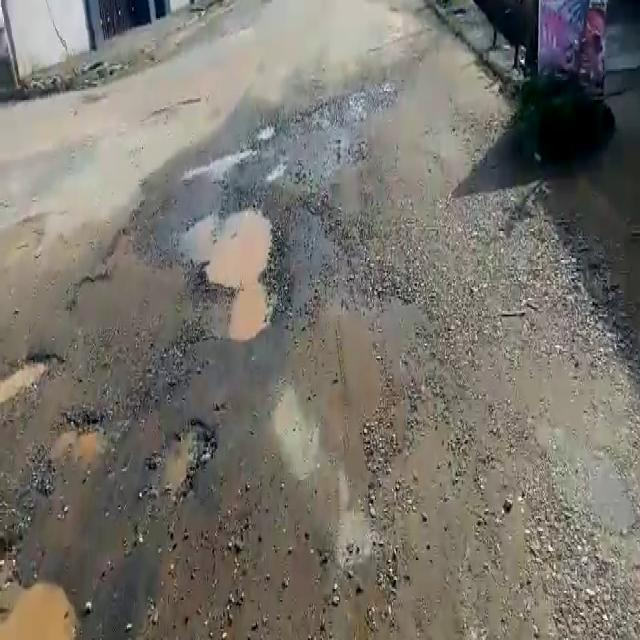pothole: (163, 199, 286, 337), (144, 416, 217, 500), (0, 579, 79, 640), (0, 346, 64, 420), (252, 123, 279, 140)
